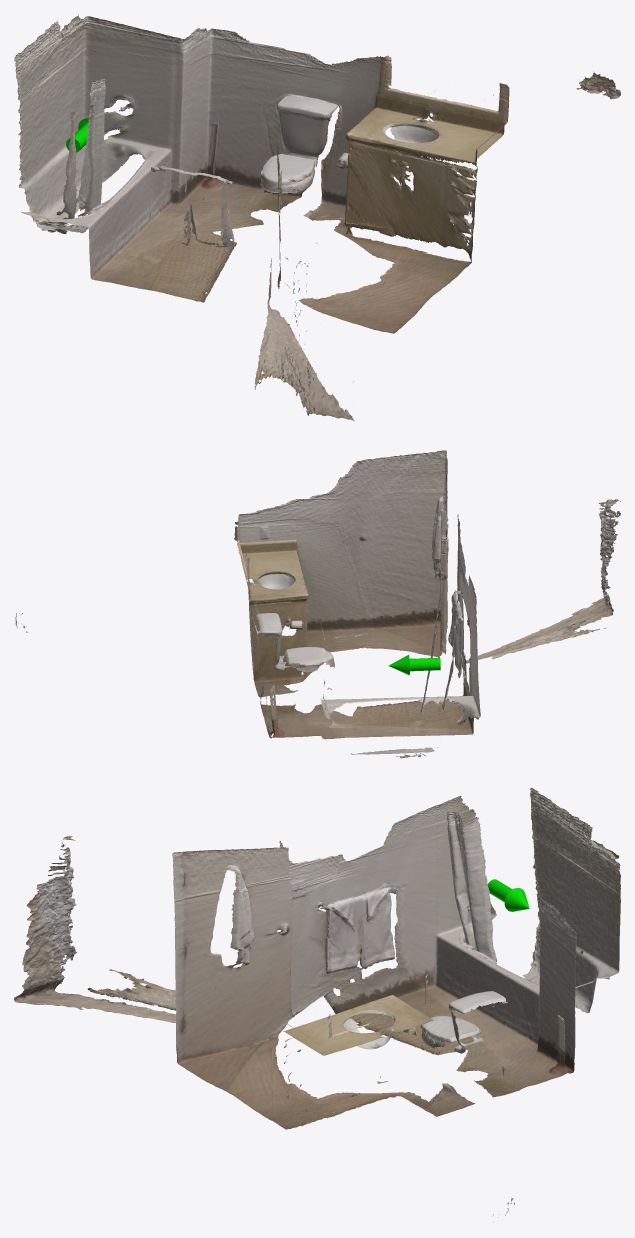
The model's file is situation_2.glb.
The picture shows the model from 3 angles, top to bottom: view 1: azimuth 30°, elevation 25°; view 2: azimuth 150°, elevation 25°; view 3: azimuth 270°, elevation 25°; orthographic projection. The views are drawn at different scales.
Visible parts, largest first — view 1: world; view 2: world; view 3: world.
Boxes of the visible parts, x1,y1,x2,y2 form: world: (14, 14, 620, 421); world: (15, 450, 620, 758); world: (14, 788, 620, 1222).
Size of the model in its own units: 5.19 by 1.87 by 4.73.
